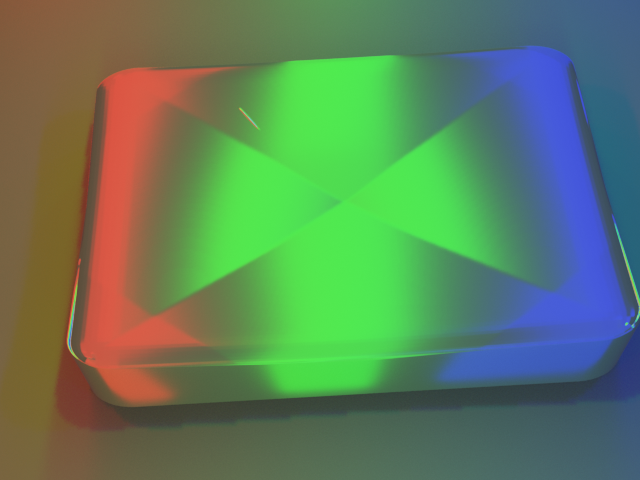scratch: (185, 72, 293, 137)
smash: (0, 0, 639, 479)
